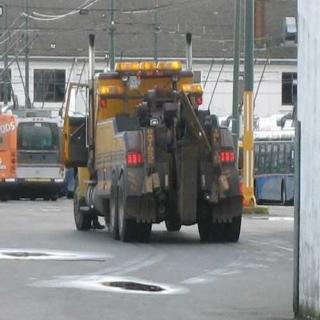Towing_truck: (61, 55, 244, 243)
